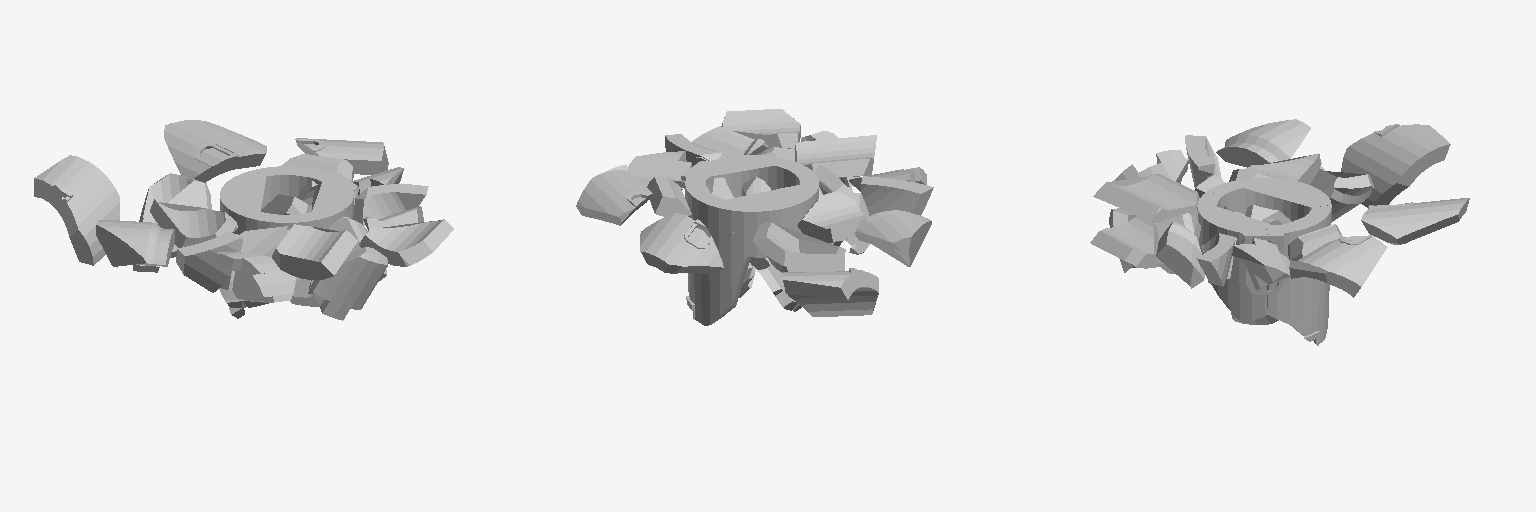
The model's file is destruction_tower_000078.obj.
3 views of the same model, side by side, from view 1: azimuth 30°, elevation 25°; view 2: azimuth 150°, elevation 25°; view 3: azimuth 270°, elevation 25° (orthographic).
Parts seen in each view (by area): view 1: tower.001_cell.003_Mesh.003, tower.001_cell.025_Mesh.025, tower.001_cell.024_Mesh.024, tower.001_cell.011_Mesh.011, tower.001_cell.005_Mesh.005, tower.001_cell.006_Mesh.006, tower.001_cell.021_Mesh.021, tower.001_cell.009_Mesh.009, tower.001_cell.002_Mesh.002, tower.001_cell.007_Mesh.007, tower.001_cell.012_Mesh.012, tower.001_cell.010_Mesh.010 (+11 smaller); view 2: tower.001_cell.017_Mesh.017, tower.001_cell.025_Mesh.025, tower.001_cell.003_Mesh.003, tower.001_cell.015_Mesh.015, tower.001_cell.007_Mesh.007, tower.001_cell.012_Mesh.012, tower.001_cell.005_Mesh.005, tower.001_cell.024_Mesh.024, tower.001_cell.028_Mesh.028, tower.001_cell.009_Mesh.009, tower.001_cell.021_Mesh.021, tower.001_cell.002_Mesh.002 (+8 smaller); view 3: tower.001_cell.003_Mesh.003, tower.001_cell.012_Mesh.012, tower.001_cell.025_Mesh.025, tower.001_cell.024_Mesh.024, tower.001_cell.017_Mesh.017, tower.001_cell.005_Mesh.005, tower.001_cell.015_Mesh.015, tower.001_cell.021_Mesh.021, tower.001_cell.020_Mesh.020, tower.001_cell.028_Mesh.028, tower.001_cell_Mesh, tower.001_cell.007_Mesh.007 (+9 smaller).
Part boxes in pixels (x1,y1,x2,y2): tower.001_cell.003_Mesh.003: (34,155,119,265); tower.001_cell.025_Mesh.025: (164,120,266,182); tower.001_cell.024_Mesh.024: (272,224,357,279); tower.001_cell.011_Mesh.011: (310,247,387,320); tower.001_cell.005_Mesh.005: (96,220,174,267); tower.001_cell.006_Mesh.006: (214,252,295,302); tower.001_cell.021_Mesh.021: (359,219,453,266); tower.001_cell.009_Mesh.009: (150,199,237,247); tower.001_cell.002_Mesh.002: (176,232,242,292); tower.001_cell.007_Mesh.007: (133,173,211,272); tower.001_cell.012_Mesh.012: (295,138,388,174); tower.001_cell.010_Mesh.010: (353,184,428,225); tower.001_cell.017_Mesh.017: (685,179,750,325); tower.001_cell.025_Mesh.025: (640,213,723,274); tower.001_cell.003_Mesh.003: (783,268,878,316); tower.001_cell.015_Mesh.015: (721,185,817,257); tower.001_cell.007_Mesh.007: (753,222,845,272); tower.001_cell.012_Mesh.012: (576,164,652,225); tower.001_cell.005_Mesh.005: (854,210,931,266); tower.001_cell.024_Mesh.024: (795,135,876,177); tower.001_cell.028_Mesh.028: (700,155,808,197); tower.001_cell.009_Mesh.009: (797,191,865,243); tower.001_cell.021_Mesh.021: (721,109,800,149); tower.001_cell.002_Mesh.002: (861,176,933,215); tower.001_cell.003_Mesh.003: (1341,124,1450,207); tower.001_cell.012_Mesh.012: (1289,235,1387,297); tower.001_cell.025_Mesh.025: (1361,198,1469,244); tower.001_cell.024_Mesh.024: (1093,173,1199,222); tower.001_cell.017_Mesh.017: (1289,205,1331,345); tower.001_cell.005_Mesh.005: (1216,119,1310,167); tower.001_cell.015_Mesh.015: (1243,178,1331,221); tower.001_cell.021_Mesh.021: (1090,213,1158,268); tower.001_cell.020_Mesh.020: (1211,231,1270,323); tower.001_cell.028_Mesh.028: (1197,193,1270,254); tower.001_cell_Mesh: (1156,222,1204,288); tower.001_cell.007_Mesh.007: (1310,166,1373,221).
Size of the model in its own units: 112 by 44.39 by 121.